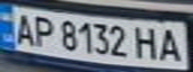1: (75, 19, 93, 54)
2: (109, 22, 130, 58)
3: (90, 20, 112, 56)
8: (54, 17, 78, 52)
A: (154, 25, 187, 63), (9, 10, 39, 46)
H: (133, 24, 163, 61)
P: (30, 12, 57, 47)
